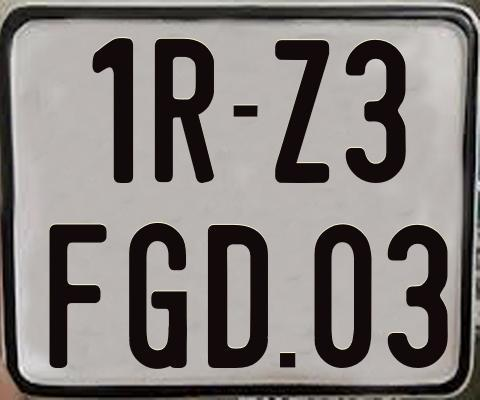0: (311, 223, 370, 367)
1: (91, 35, 138, 183)
3: (345, 38, 407, 182), (385, 225, 446, 370)
D: (206, 224, 266, 368)
F: (47, 223, 111, 368)
G: (126, 220, 186, 367)
R: (152, 37, 214, 181)
Z: (274, 37, 332, 182)
